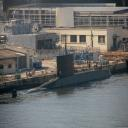submarine: (13, 54, 112, 99)
